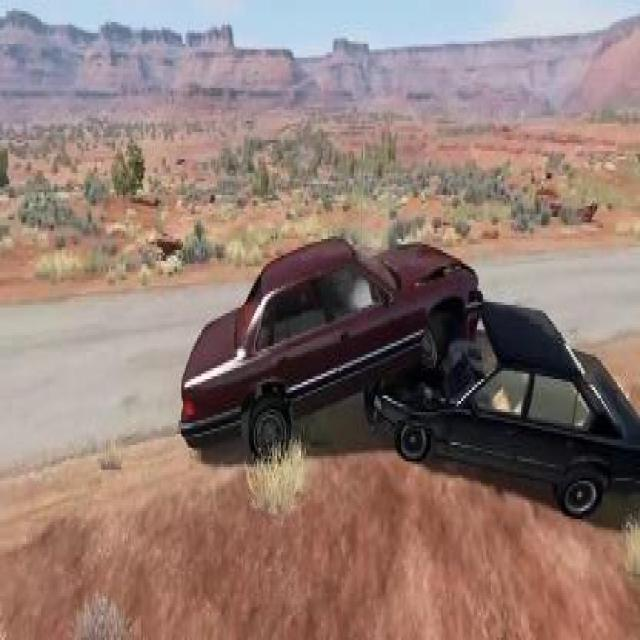accident: (177, 220, 640, 516)
